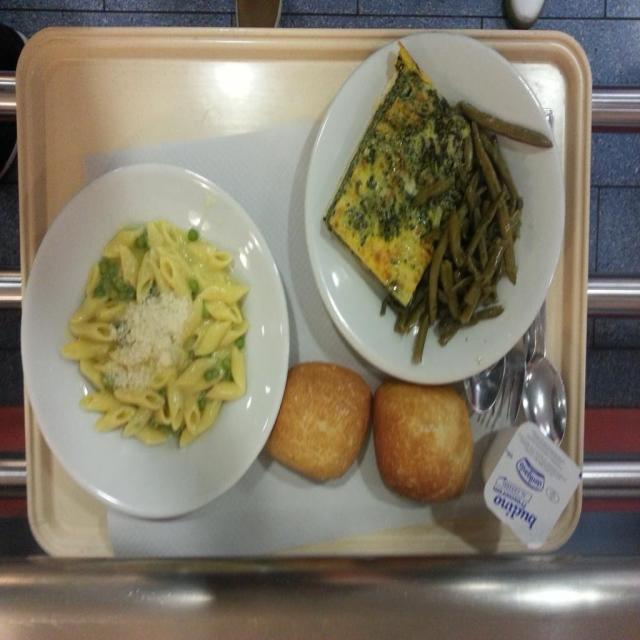plate: (20, 160, 292, 521), (302, 27, 563, 391), (266, 361, 372, 486), (372, 380, 474, 505)
